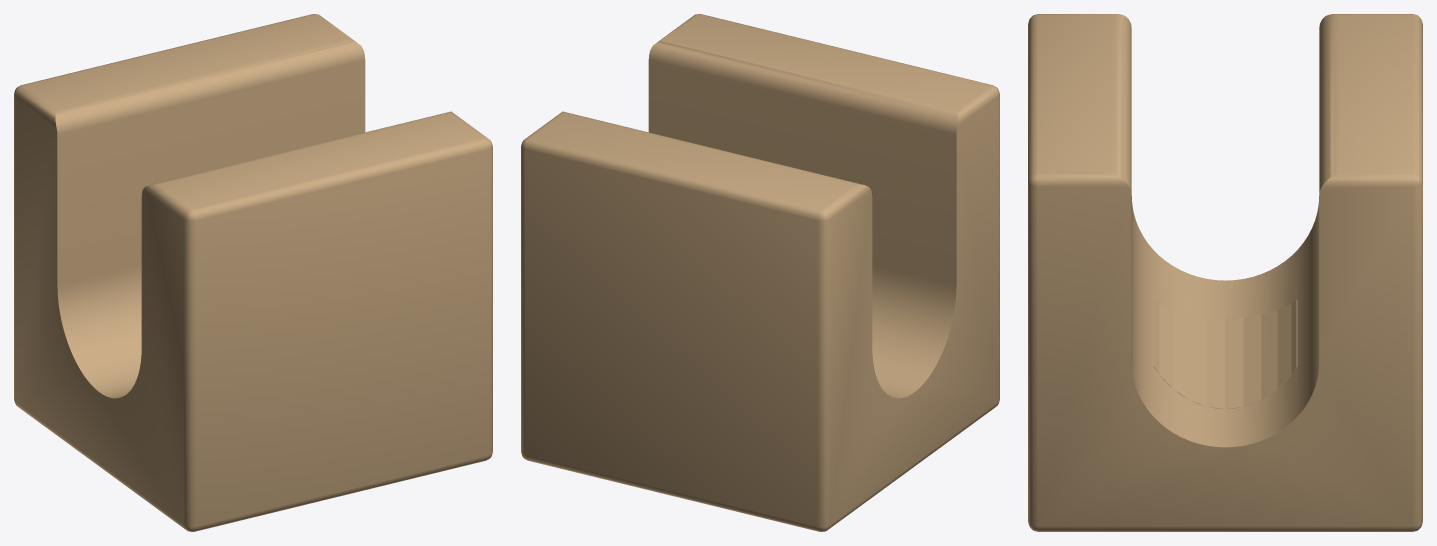
File: mech_hole_oneway_l1.glb
3 renders of one model, left to right at view 1: azimuth 30°, elevation 25°; view 2: azimuth 150°, elevation 25°; view 3: azimuth 270°, elevation 25°, orthographic. The views are drawn at different scales.
Parts seen in each view (by area): view 1: mech_hole_oneway_l1_lod0; view 2: mech_hole_oneway_l1_lod0; view 3: mech_hole_oneway_l1_lod0, anim_trapdoor_lod0.
Boxes of the visible parts, x1,y1,x2,y2 form: mech_hole_oneway_l1_lod0: (14, 14, 492, 531); mech_hole_oneway_l1_lod0: (521, 14, 999, 531); mech_hole_oneway_l1_lod0: (1028, 14, 1422, 531); anim_trapdoor_lod0: (1153, 300, 1297, 409).
Size of what is drawn, in the model's own units: 0.059 by 0.059 by 0.059.
